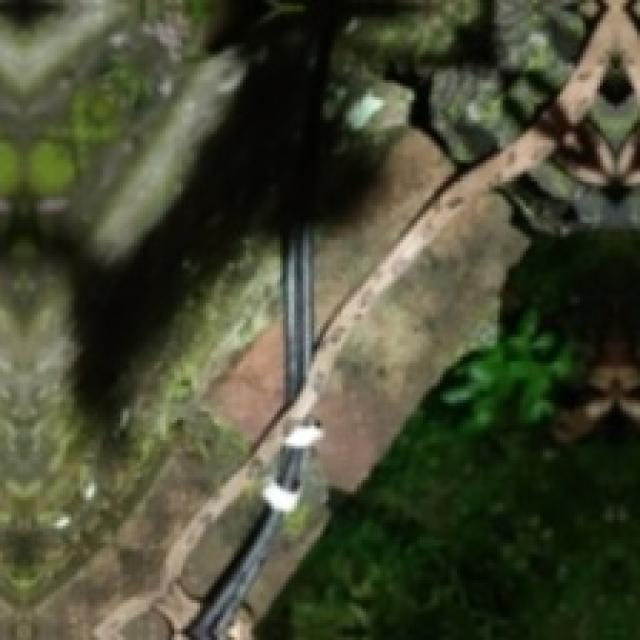dog-toothed cat snake: (95, 129, 556, 640), (566, 0, 640, 94)
